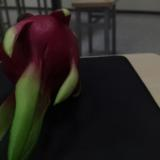pitaya: (2, 10, 78, 143)
